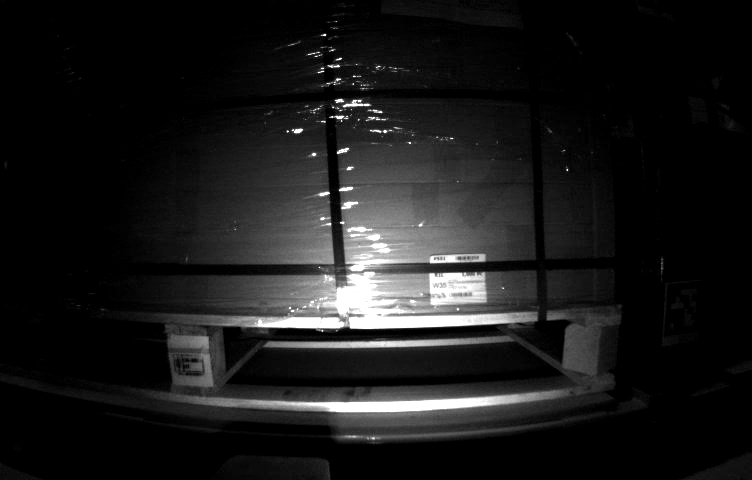True Barcode: (428, 254, 487, 304)
